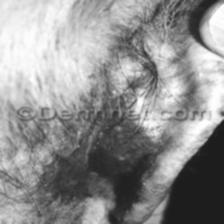Potentially Malignant Skin Tumors: (86, 138, 148, 214), (48, 150, 94, 204), (100, 77, 132, 109)
